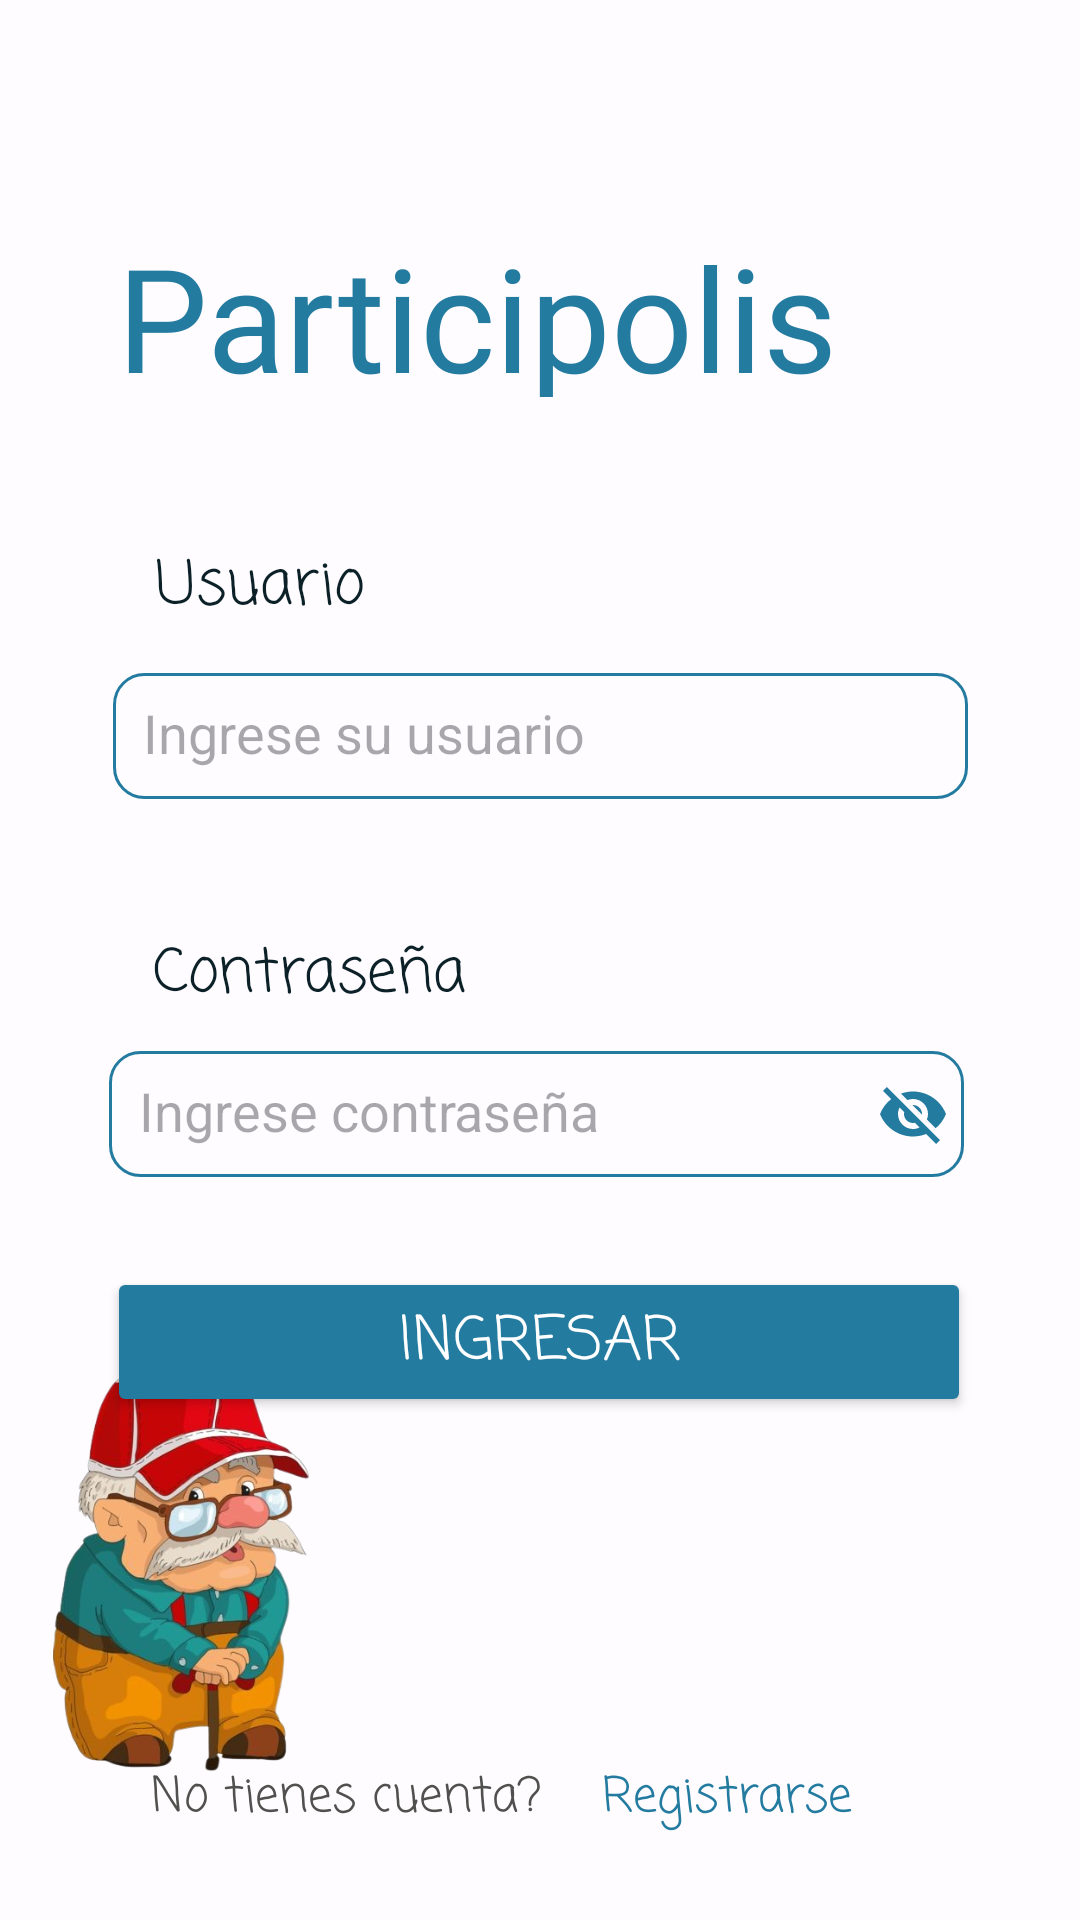

Where icons sit on this 1080×1920 app screen, as (x1, y1, x2, y2):
Show Password: (880, 1087, 946, 1144)
